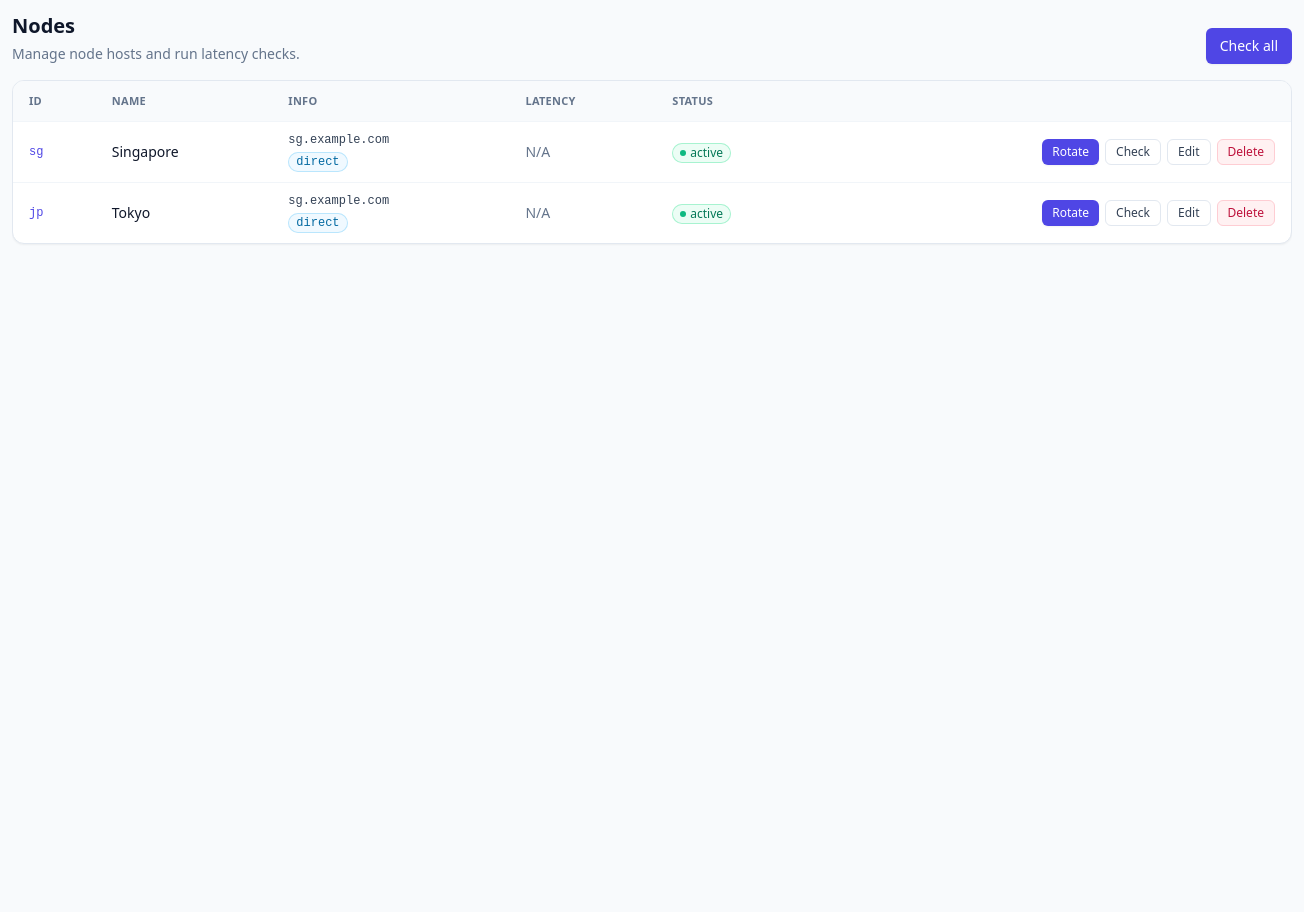
it: checks all node latency and marks failed nodes unreachable
This screenshot has width=1304, height=912.
Check: the text "Singapore" is shown, box [96, 122, 272, 182]
Click the button "Check all".
click(1249, 46)  # box [1206, 28, 1292, 64]
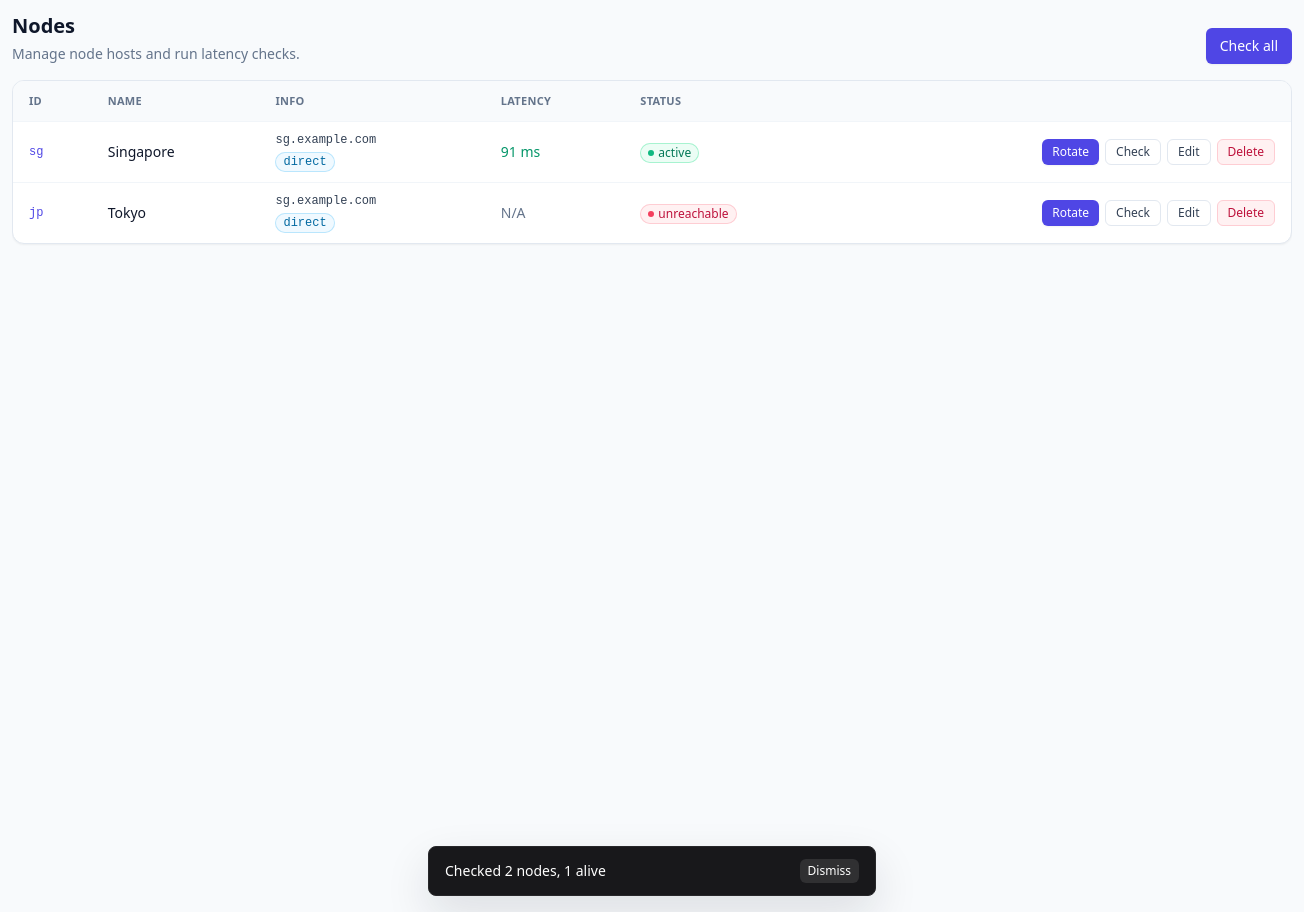
Check: the text "Checked 2 nodes, 1 alive" is shown, box [445, 861, 606, 881]
Check: the text "91 ms" is shown, box [501, 142, 540, 161]
Check: the text "unreachable" is shown, box [640, 204, 737, 224]
